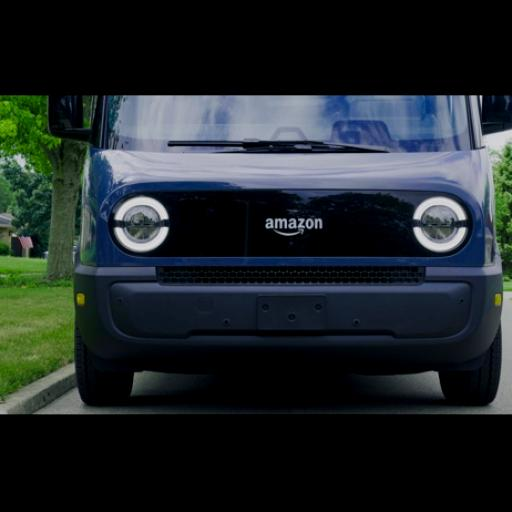car: (42, 250, 47, 258), (72, 247, 74, 261)
van: (49, 95, 512, 403)
